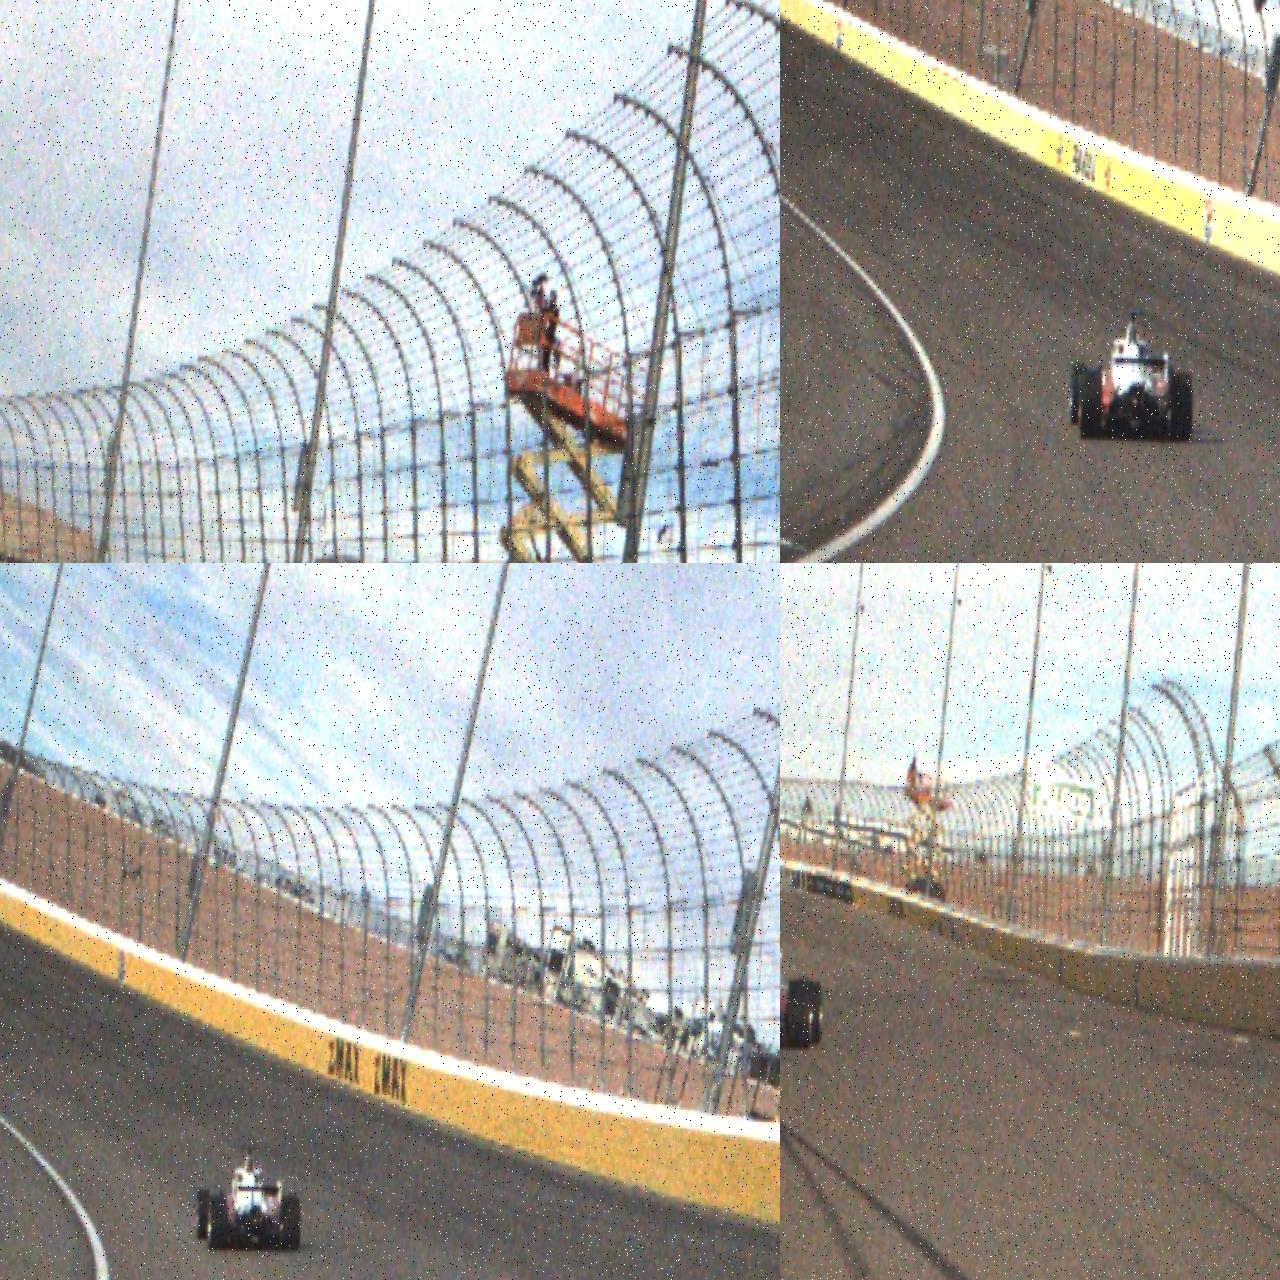AV: (1066, 306, 1196, 444), (194, 1142, 304, 1252), (780, 915, 825, 1050)
Wheel: (786, 979, 813, 1050), (1078, 368, 1101, 440), (1170, 372, 1193, 443), (802, 981, 824, 1045), (282, 1192, 302, 1252), (208, 1192, 228, 1250), (1068, 361, 1086, 425), (194, 1188, 210, 1240)
